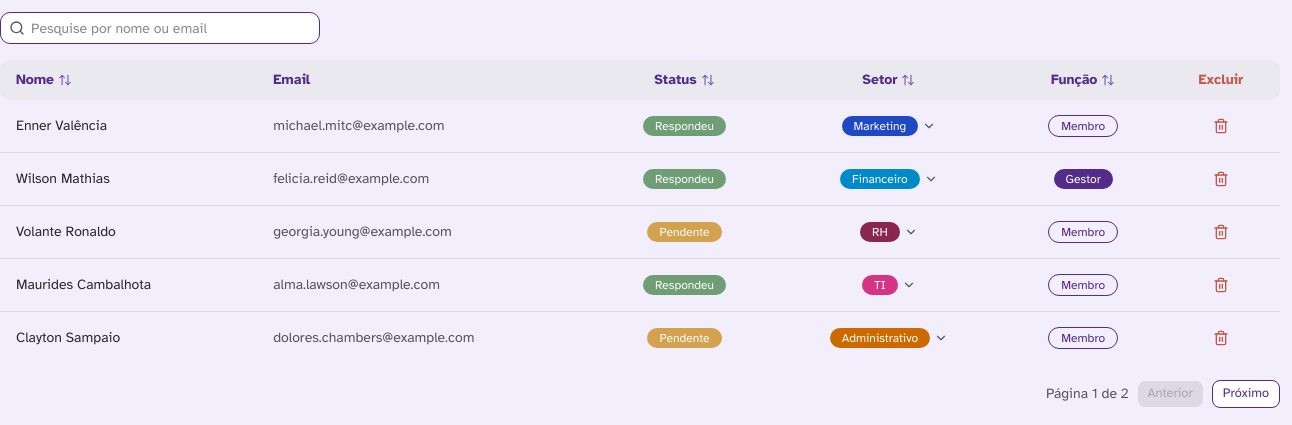
MembersTable › reinicia a página ao filtrar e ignora espaços e caixa no e-mail
Click the button "Próximo".
click(1246, 394)  # box [1212,380,1280,408]
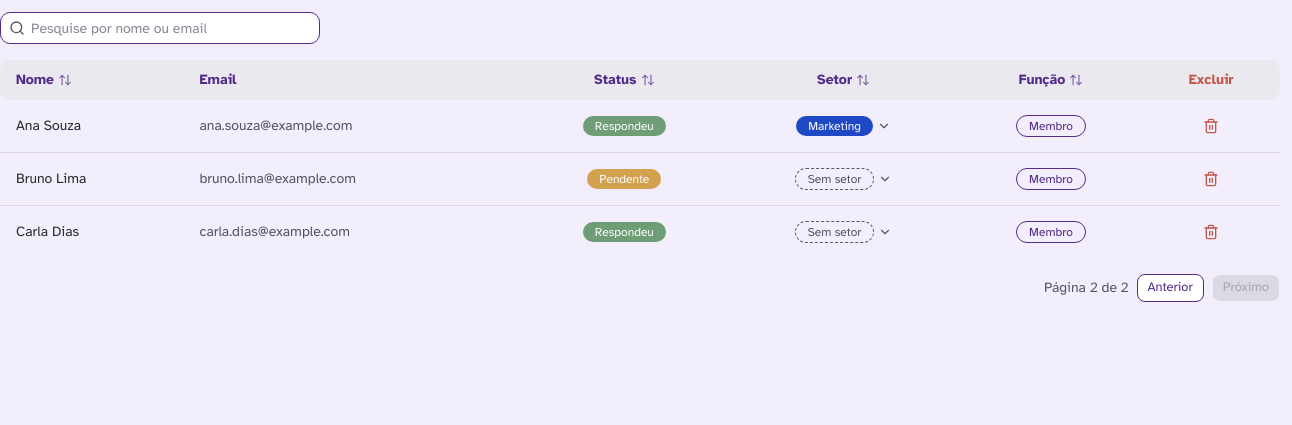
Type " FELICIA.REID " into the search field named "Pesquisar membros por nome ou email".
click(172, 28); type(" FELICIA.REID ")  # box [25,13,319,43]
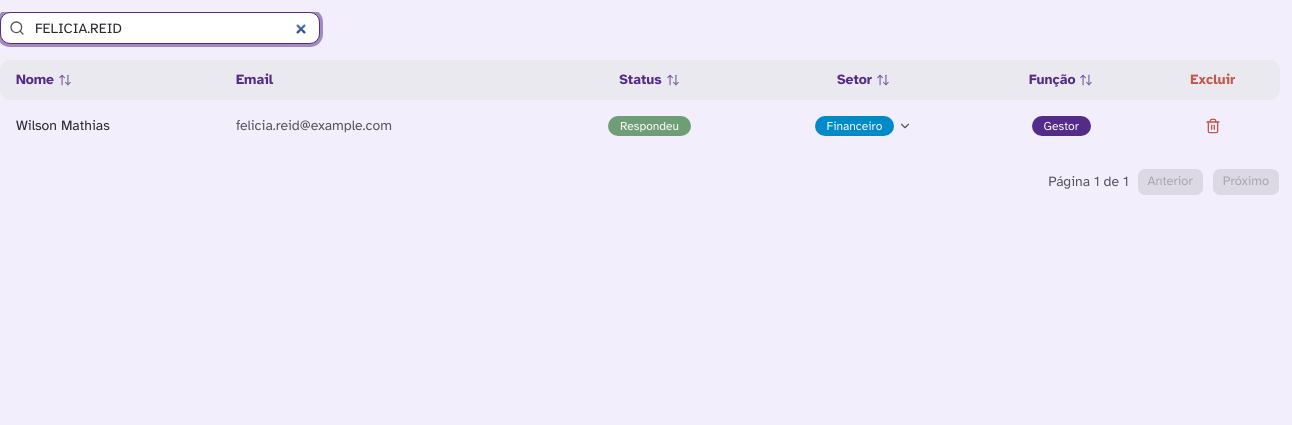
Expected: the button "Próximo" is disabled, [1212,168,1280,196]
Expected: the text "Wilson Mathias" is shown, [0,100,220,152]
Expected: the text "Página 1 de 1" is shown, [1048,172,1129,192]
